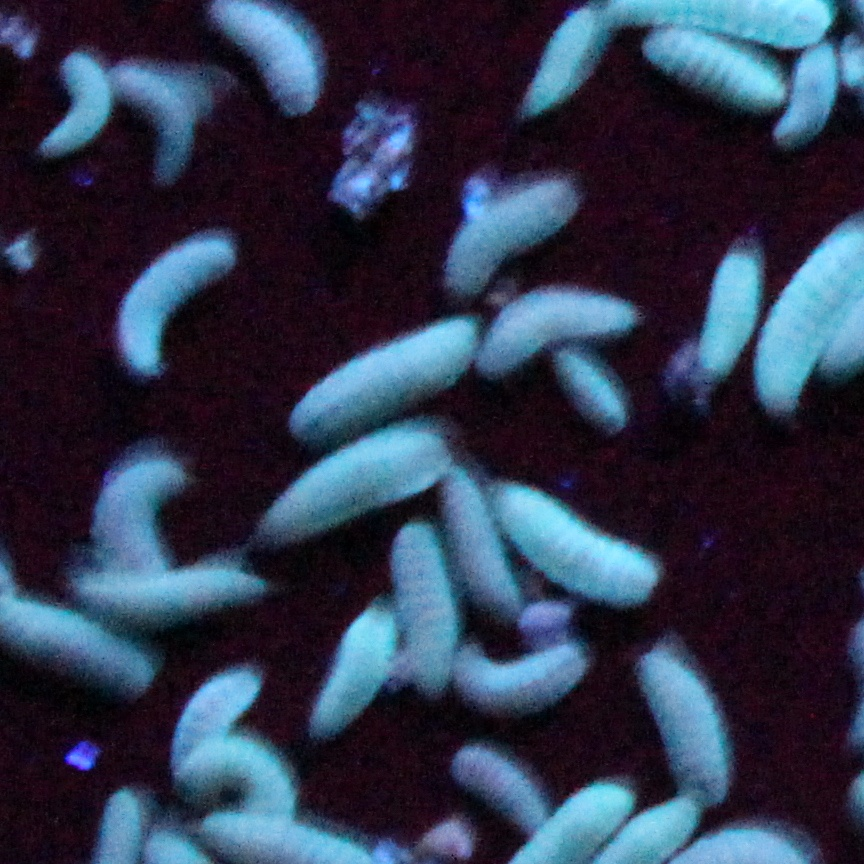larve: (292, 320, 476, 441), (496, 487, 656, 603), (269, 430, 450, 530), (121, 238, 234, 374), (447, 182, 577, 289), (479, 291, 632, 374), (437, 468, 520, 619), (639, 655, 725, 799), (645, 31, 784, 109), (392, 523, 453, 695), (94, 461, 184, 576), (313, 607, 392, 732), (107, 67, 190, 177), (453, 645, 586, 713), (522, 7, 598, 113), (181, 741, 294, 812), (454, 750, 543, 834), (70, 572, 261, 609), (44, 51, 110, 156), (173, 671, 259, 749), (698, 252, 753, 372), (776, 47, 837, 144), (556, 352, 624, 429)
